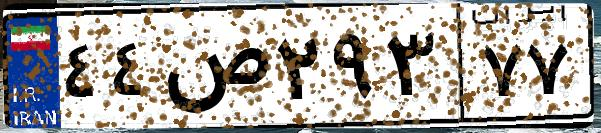2: (270, 28, 330, 110)
3: (385, 28, 445, 110)
4: (57, 26, 110, 100), (110, 28, 158, 98)
7: (475, 38, 525, 113), (525, 38, 570, 115)
9: (330, 28, 385, 110)
ص: (158, 20, 270, 120)
